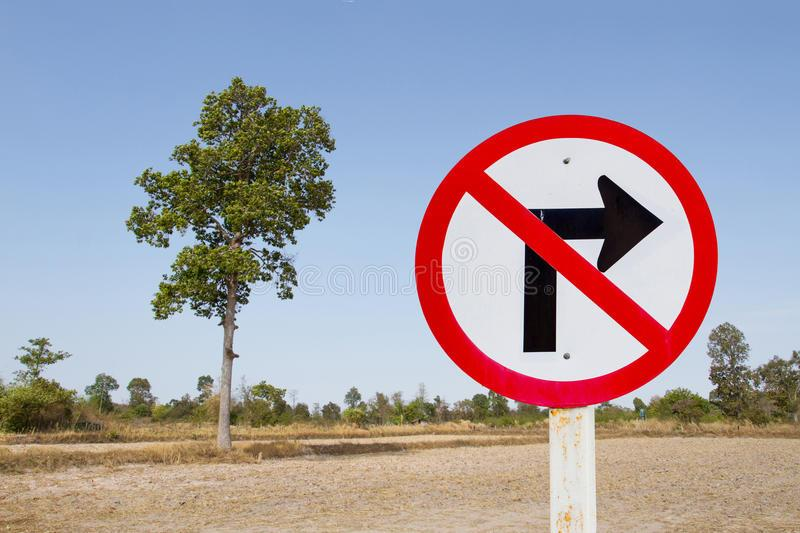no_right_turn: (412, 114, 719, 404)
